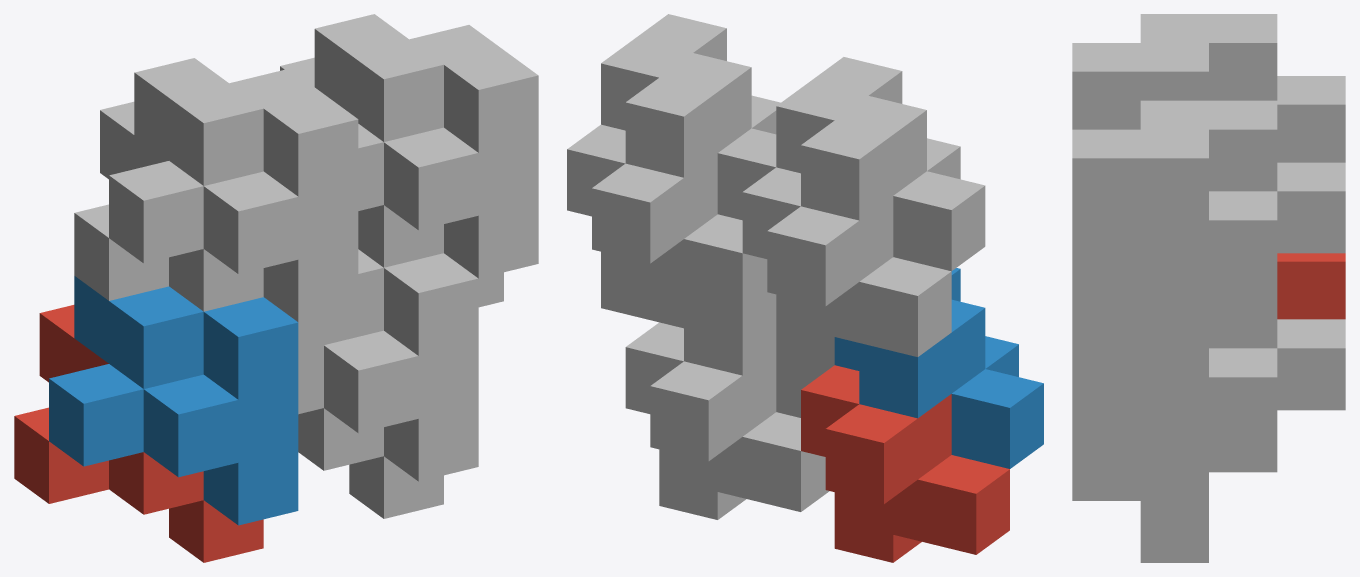
Rendered from tiling.obj.
3 views of the same model, side by side, from view 1: azimuth 30°, elevation 25°; view 2: azimuth 150°, elevation 25°; view 3: azimuth 270°, elevation 25° (orthographic). The views are drawn at different scales.
Visible parts, largest first — view 1: copy_1_domain_4, copy_1_domain_2, copy_1_domain_8, copy_1_domain_6, copy_1_domain_1, copy_1_domain_3, copy_1_domain_5, copy_1_domain_7; view 2: copy_1_domain_4, copy_1_domain_1, copy_1_domain_3, copy_1_domain_5, copy_1_domain_7, copy_1_domain_8, copy_1_domain_2, copy_1_domain_6; view 3: copy_1_domain_8, copy_1_domain_7, copy_1_domain_5, copy_1_domain_4, copy_1_domain_6, copy_1_domain_3, copy_1_domain_1.
Part boxes in pixels (<box>): copy_1_domain_4: <box>109,58,358,322</box>; copy_1_domain_2: <box>49,276,298,525</box>; copy_1_domain_8: <box>314,14,538,278</box>; copy_1_domain_6: <box>298,249,478,481</box>; copy_1_domain_1: <box>14,305,263,562</box>; copy_1_domain_3: <box>74,101,323,351</box>; copy_1_domain_5: <box>298,408,443,518</box>; copy_1_domain_7: <box>280,57,503,307</box>; copy_1_domain_4: <box>776,57,985,271</box>; copy_1_domain_1: <box>801,365,1009,562</box>; copy_1_domain_3: <box>742,167,951,364</box>; copy_1_domain_5: <box>625,322,829,519</box>; copy_1_domain_7: <box>567,124,770,322</box>; copy_1_domain_8: <box>601,14,780,220</box>; copy_1_domain_2: <box>834,268,1043,468</box>; copy_1_domain_6: <box>659,293,834,417</box>; copy_1_domain_8: <box>1072,100,1277,344</box>; copy_1_domain_7: <box>1140,162,1345,405</box>; copy_1_domain_5: <box>1140,319,1345,562</box>; copy_1_domain_4: <box>1072,14,1277,129</box>; copy_1_domain_6: <box>1072,315,1277,500</box>; copy_1_domain_3: <box>1277,76,1345,162</box>; copy_1_domain_1: <box>1277,253,1345,319</box>.
Size of the model in its own units: 7 by 7 by 4.
